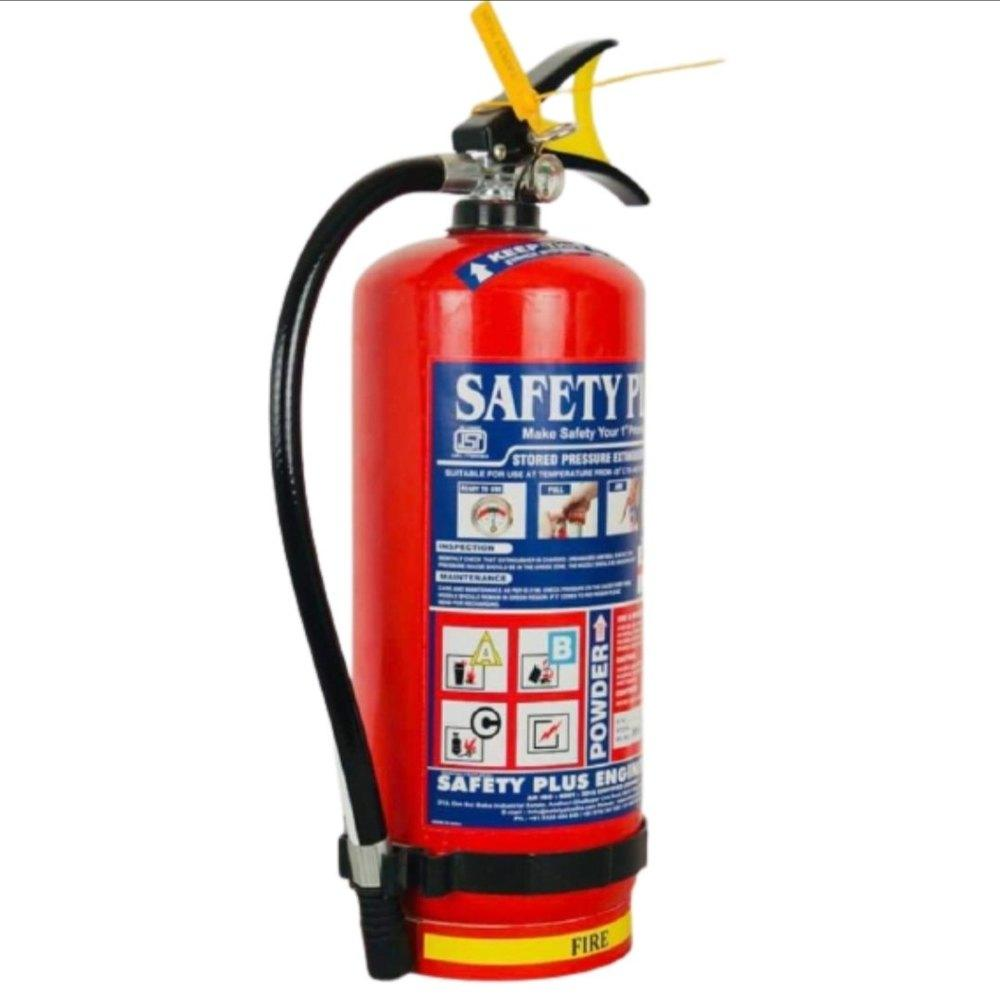Fire Extinguisher: (215, 15, 745, 996)
